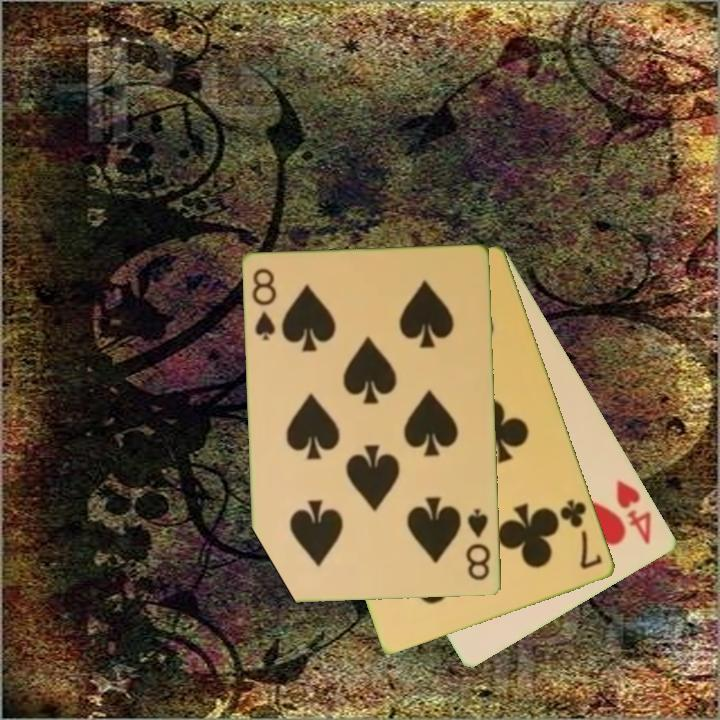4h: (613, 476, 656, 548)
7c: (556, 496, 606, 573)
8s: (463, 506, 494, 584), (249, 265, 280, 343)
